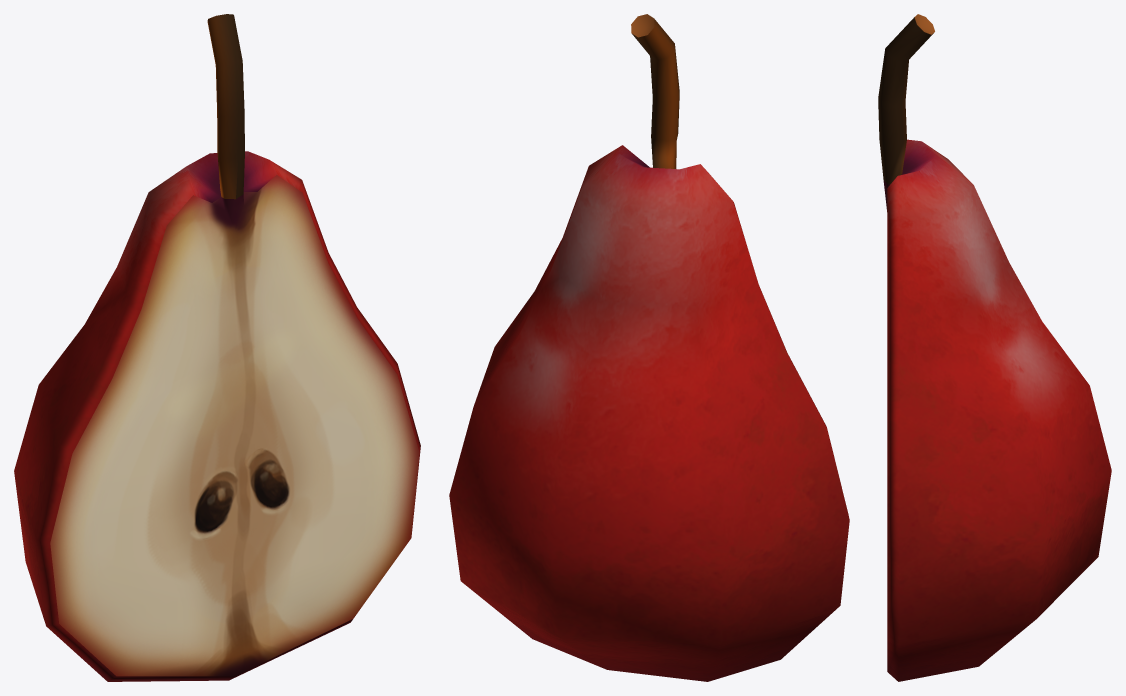
Rendered from Pear_02_Half.fbx.
The picture shows the model from 3 angles, left to right: view 1: azimuth 30°, elevation 25°; view 2: azimuth 150°, elevation 25°; view 3: azimuth 270°, elevation 25°; orthographic projection. The views are drawn at different scales.
Visible parts, largest first — view 1: Pear_02_Half; view 2: Pear_02_Half; view 3: Pear_02_Half.
Boxes of the visible parts, left/top/right/bottom form: Pear_02_Half: left=14, top=14, right=420, bottom=681; Pear_02_Half: left=449, top=14, right=849, bottom=681; Pear_02_Half: left=878, top=14, right=1111, bottom=681.
Bounding box in the file's own units: 26.45 × 43.37 × 14.4.
Materials: 1 (1 with a texture image).
